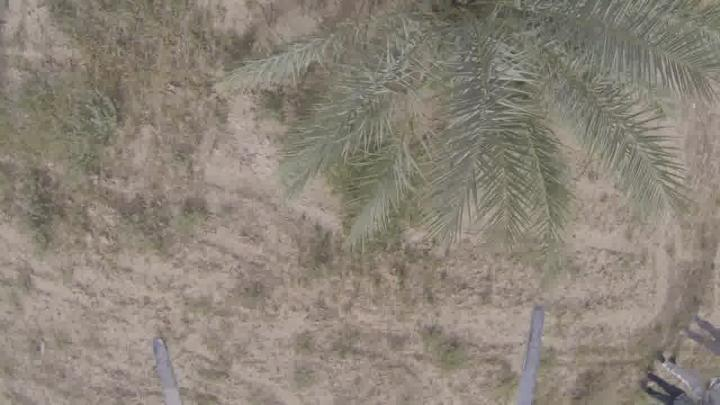Date-Palm-Crown: (327, 0, 678, 206)
